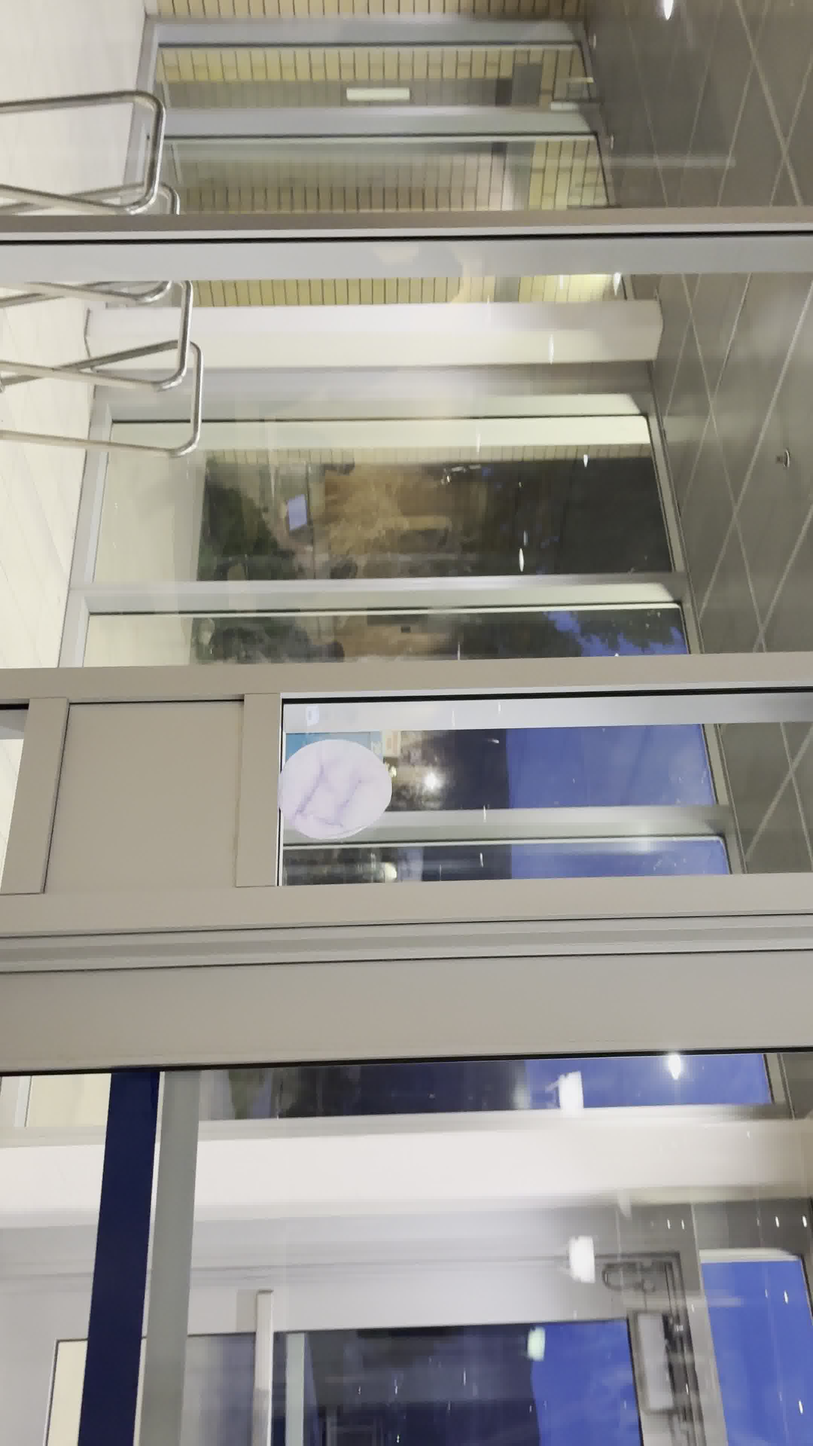Target: (276, 738, 394, 841)
